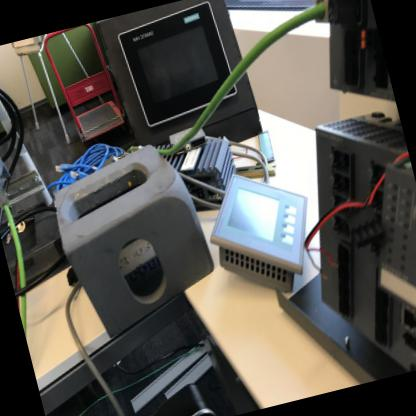CornerCasting: (42, 130, 230, 348)
